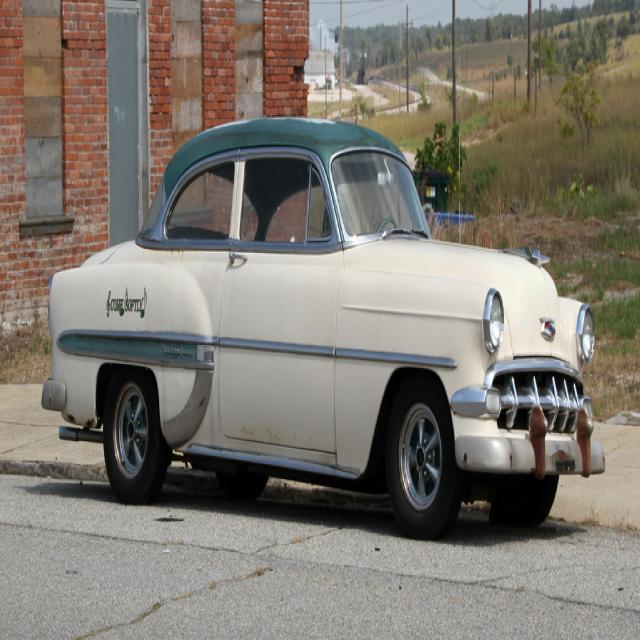car: (38, 111, 606, 541)
